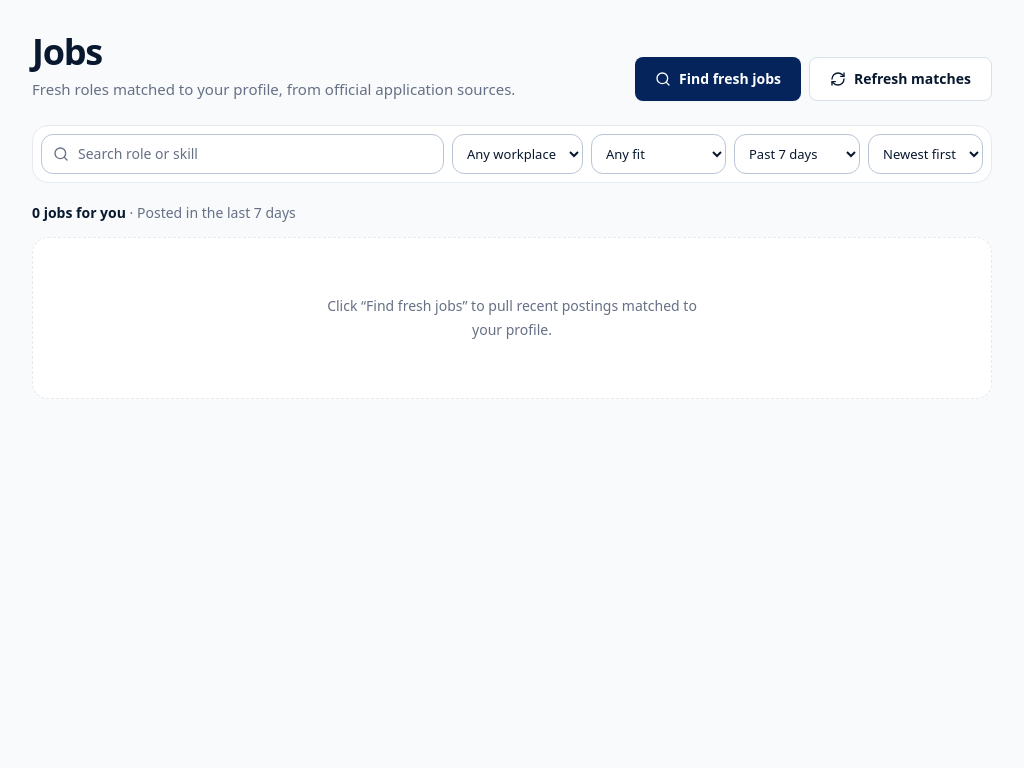
Scenario: JobDiscovery › renders only the server's eligible set (no Canada/senior/unrelated leak)
The width and height of the screenshot is (1024, 768).
Click the button "Find fresh jobs": (718, 78) [635,56,801,100]
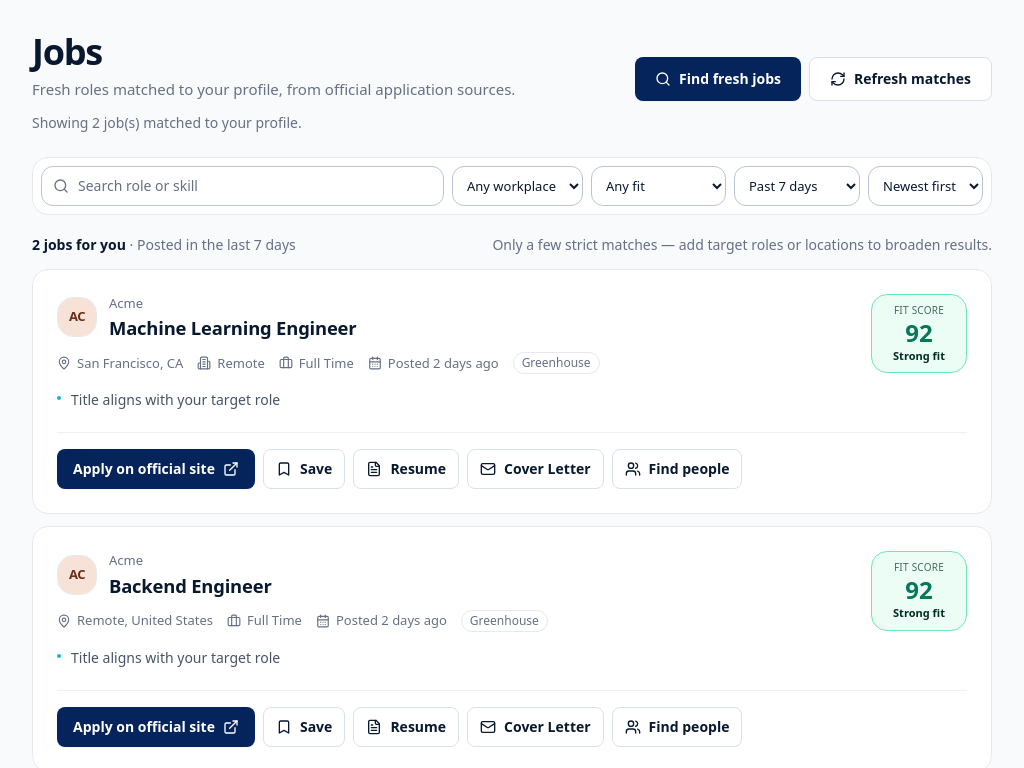
Expected: the button "Backend Engineer" is shown, [109,573,272,598]
